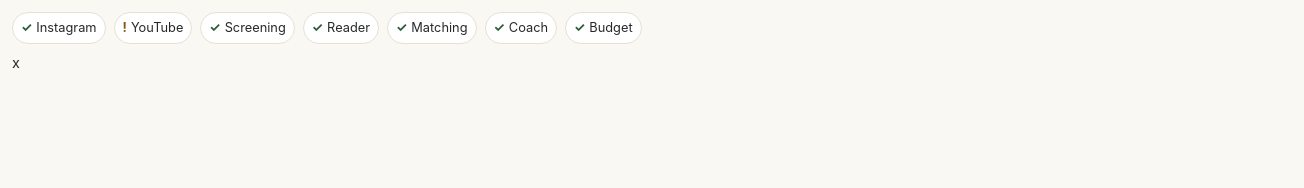
Test case: Retry by the link, when the post is in already (review, 2026-11-06) › says it's in, never 'Sent to be read again'
Click the button with class "health-light" showing "! YouTube" at (153, 28), box left=114, top=12, right=192, bottom=44
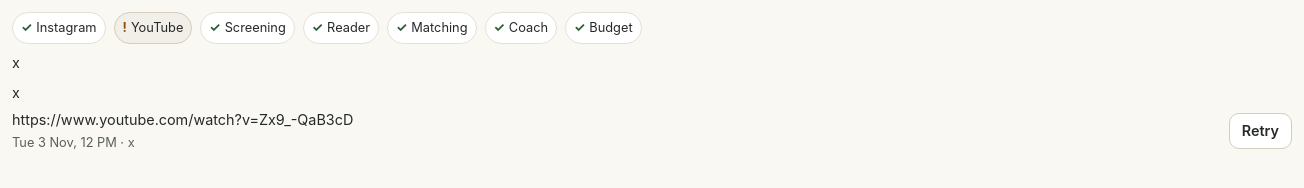
Click the button "Retry" at (1260, 131), box left=1229, top=113, right=1292, bottom=149
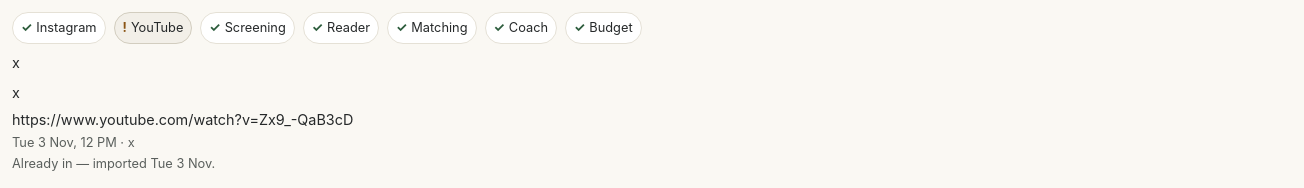
Check: the list item with class "health-failure" shows "Already in — imported Tue 3 Nov.", box left=12, top=156, right=215, bottom=171
